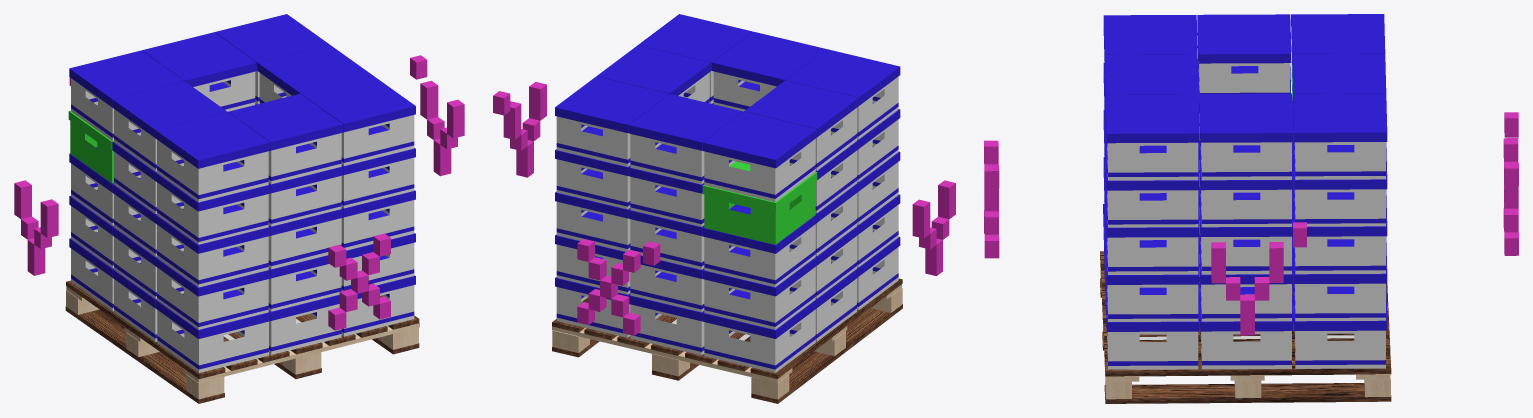
Rendered from caja134.gltf.
3 renders of one model, left to right at view 1: azimuth 30°, elevation 25°; view 2: azimuth 150°, elevation 25°; view 3: azimuth 270°, elevation 25°, orthographic. The views are drawn at different scales.
Parts seen in each view (by area): view 1: Cube.031_1, Cube.033_1, Cube.026_1, Cube.032_1, Cube.030_1, Cube.029_1, Cube.027_1, Cube.007_0, Cube.031_0, Cube.020_0, Cube.039_0, Cube.012_0 (+53 smaller); view 2: CajaVerde, Cube.029_1, Cube.032_1, Cube.028_1, Cube.033_1, Cube.030_1, Cube.031_1, Cube.027_1, Cube.014_0, Cube.029_0, Cube.037_0, Cube.022_0 (+51 smaller); view 3: Cube.028_1, Cube.027_1, Cube.026_1, Cube.030_1, Cube055, Cube.033_1, Cube.032_1, Cube.031_1, Cube.029_1, Cube.001_0, Cube.003_0, Cube.002_0 (+33 smaller).
Boxes of the visible parts, x1,y1,x2,y2 form: Cube.031_1: [155, 112, 270, 199]; Cube.033_1: [228, 93, 343, 180]; Cube.026_1: [301, 75, 415, 162]; Cube.032_1: [142, 32, 256, 109]; Cube.030_1: [112, 81, 227, 168]; Cube.029_1: [69, 50, 183, 137]; Cube.027_1: [258, 45, 372, 103]; Cube.007_0: [157, 310, 268, 372]; Cube.031_0: [157, 139, 268, 202]; Cube.020_0: [157, 225, 268, 287]; Cube.039_0: [157, 182, 268, 244]; Cube.012_0: [157, 267, 268, 329]; CajaVerde: [702, 161, 817, 244]; Cube.029_1: [702, 111, 817, 198]; Cube.032_1: [628, 94, 743, 181]; Cube.028_1: [555, 76, 669, 163]; Cube.033_1: [712, 31, 826, 109]; Cube.030_1: [744, 80, 858, 167]; Cube.031_1: [786, 49, 900, 136]; Cube.027_1: [596, 45, 711, 102]; Cube.014_0: [704, 309, 815, 372]; Cube.029_0: [704, 139, 815, 201]; Cube.037_0: [704, 224, 815, 287]; Cube.022_0: [704, 267, 815, 329]; Cube.028_1: [1293, 93, 1387, 176]; Cube.027_1: [1199, 93, 1293, 176]; Cube.026_1: [1105, 94, 1199, 176]; Cube.030_1: [1197, 14, 1291, 93]; Cube055: [1104, 383, 1391, 403]; Cube.033_1: [1104, 54, 1198, 100]; Cube.032_1: [1292, 53, 1386, 93]; Cube.031_1: [1103, 15, 1197, 61]; Cube.029_1: [1291, 14, 1385, 53]; Cube.001_0: [1107, 331, 1198, 369]; Cube.003_0: [1294, 330, 1385, 368]; Cube.002_0: [1200, 331, 1291, 369].
Bounding box in the file's own units: 4.23 × 2.33 × 4.22.
82 materials, 2 textured.
